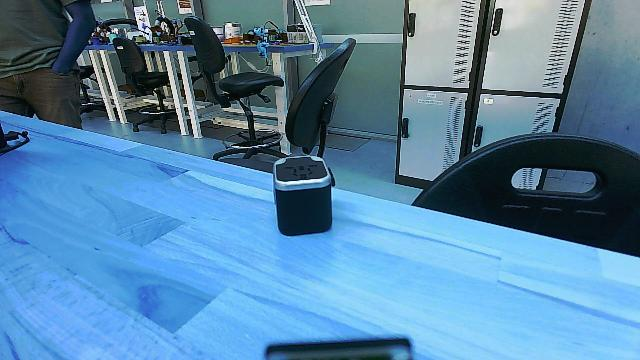adapter: (260, 154, 338, 234)
